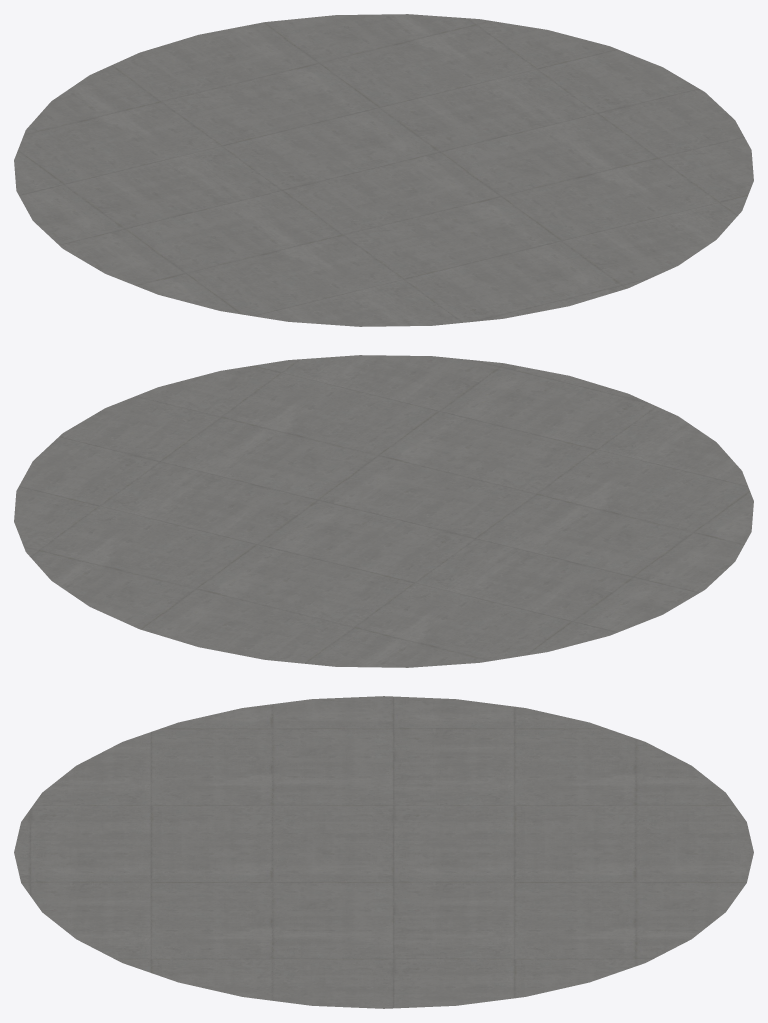
3 renders of one model, top to bottom at view 1: azimuth 30°, elevation 25°; view 2: azimuth 150°, elevation 25°; view 3: azimuth 270°, elevation 25°, orthographic.
Visible parts, largest first — view 1: Plane; view 2: Plane; view 3: Plane.
Boxes of the visible parts, <box> form: Plane: <box>14,14,753,326</box>; Plane: <box>14,355,753,667</box>; Plane: <box>14,696,753,1008</box>.
Size of the model in its own units: 1.06 by 0 by 1.06.
1 material, 1 textured.
